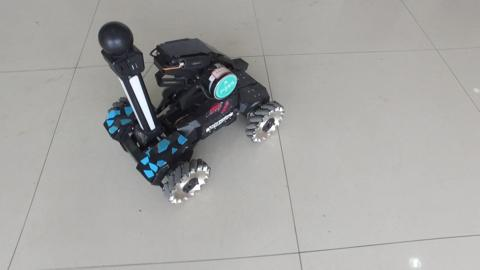chariot: (86, 38, 275, 220)
